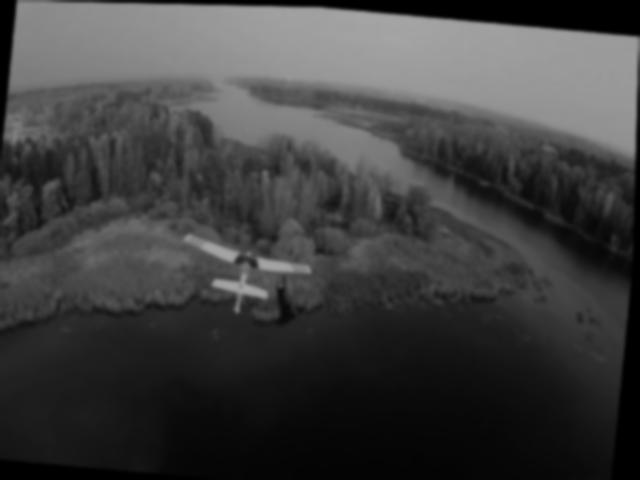hedef: (177, 233, 316, 317)
